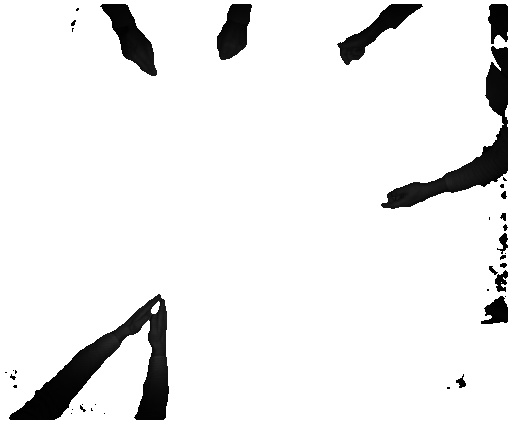fist: (216, 23, 255, 63), (336, 34, 371, 71)
hand: (376, 177, 432, 215), (121, 32, 159, 79)
spine: (116, 293, 162, 339), (150, 299, 167, 357)
